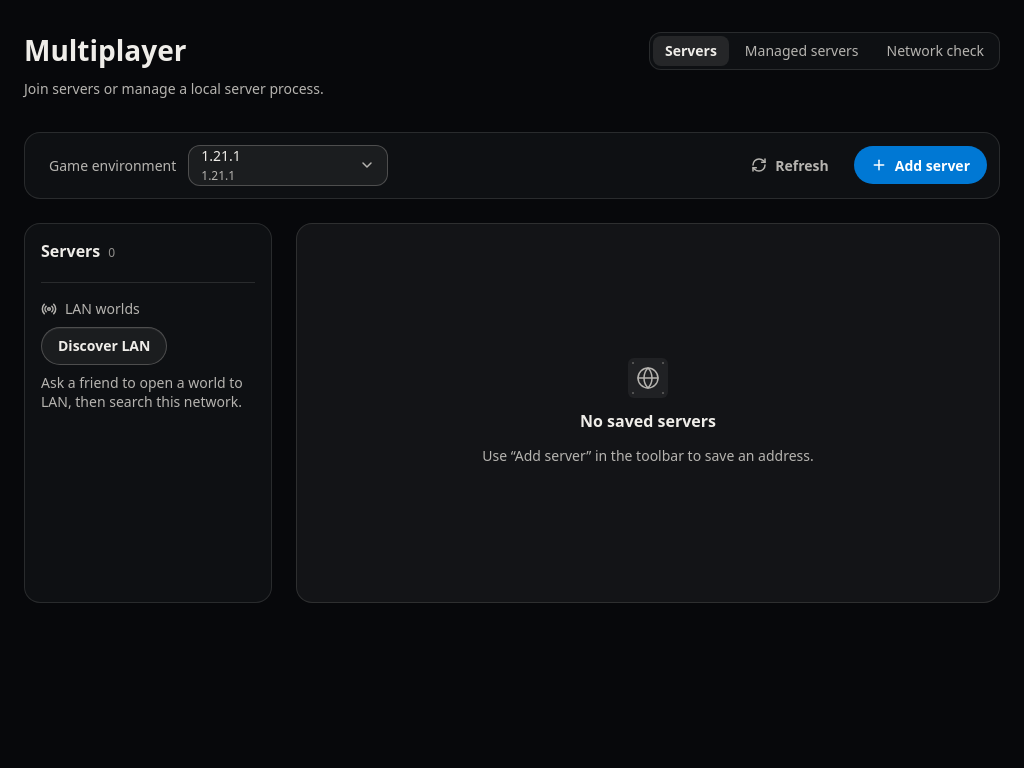
Test: multiplayer › offers one add-server action in the empty inventory and opens its form
Click the button "Add server": (920, 165) [854,146,987,184]
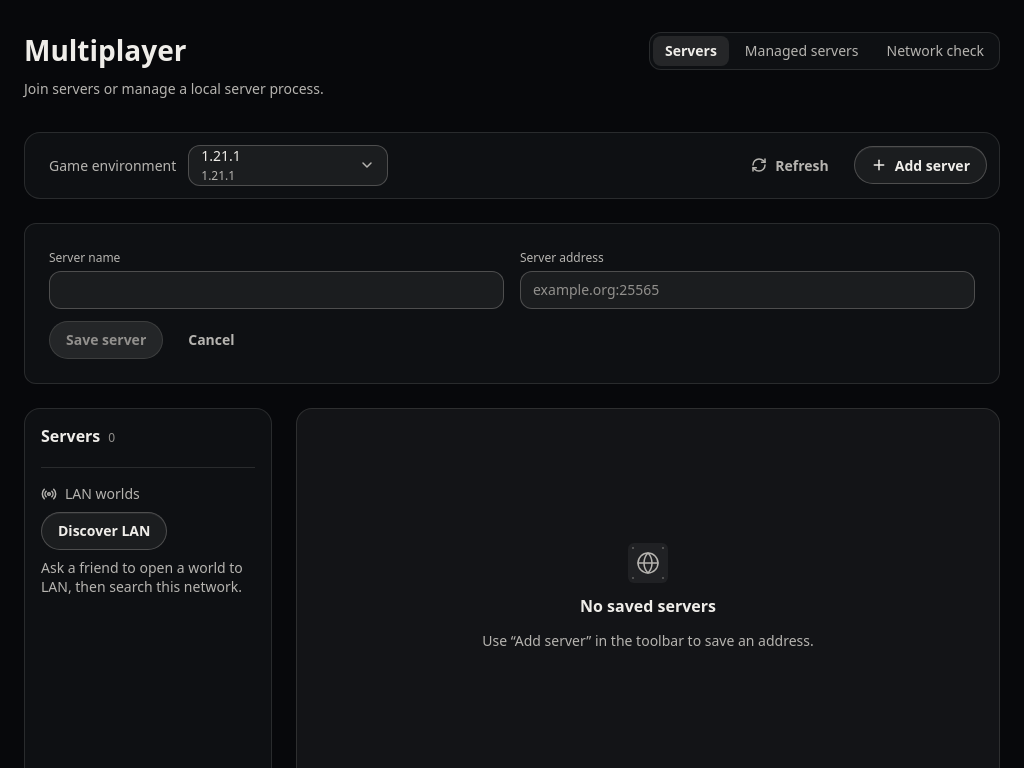
Expected: the field named "Server name" is shown, [49,271,504,309]
Expected: the field named "Server address" is shown, [520,271,975,309]
